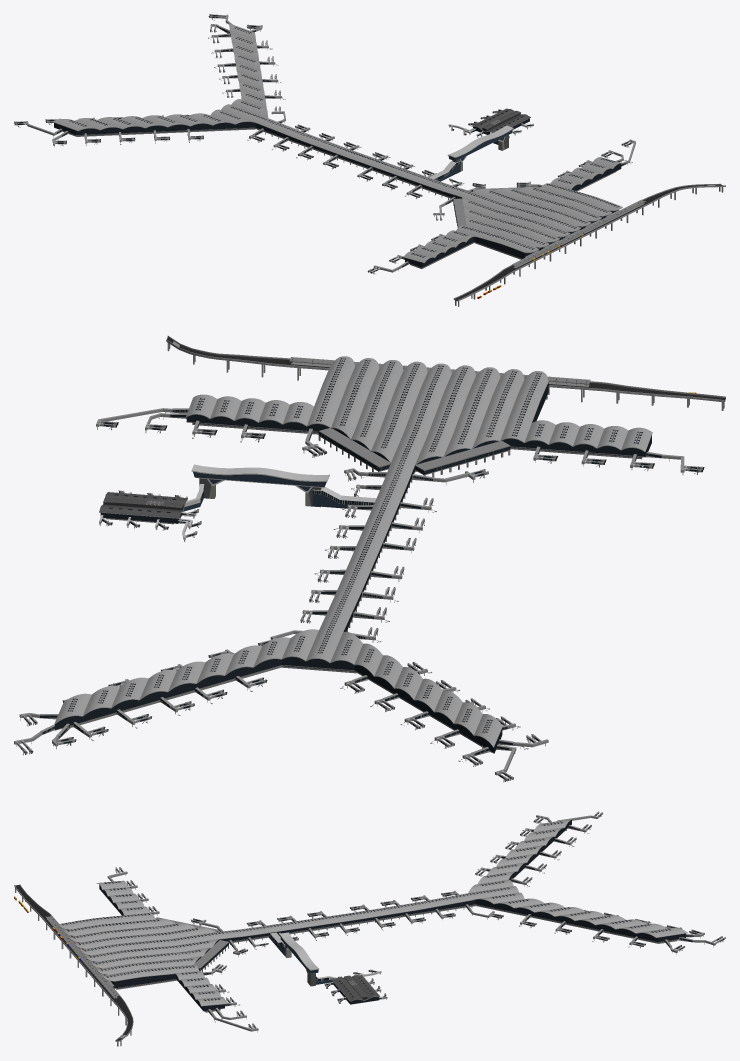
Rendered from vhhhtest-compressed.glb.
The picture shows the model from 3 angles, top to bottom: view 1: azimuth 30°, elevation 25°; view 2: azimuth 150°, elevation 25°; view 3: azimuth 270°, elevation 25°; orthographic projection. The views are drawn at different scales.
Visible parts, largest first — view 1: Plane001; view 2: Plane001; view 3: Plane001.
Part boxes in pixels (x1=…): Plane001: x1=14, y1=14, x2=725, y2=306; Plane001: x1=14, y1=335, x2=725, y2=782; Plane001: x1=14, y1=811, x2=725, y2=1046.
Size of the model in its own units: 1218 by 55.95 by 1597.
